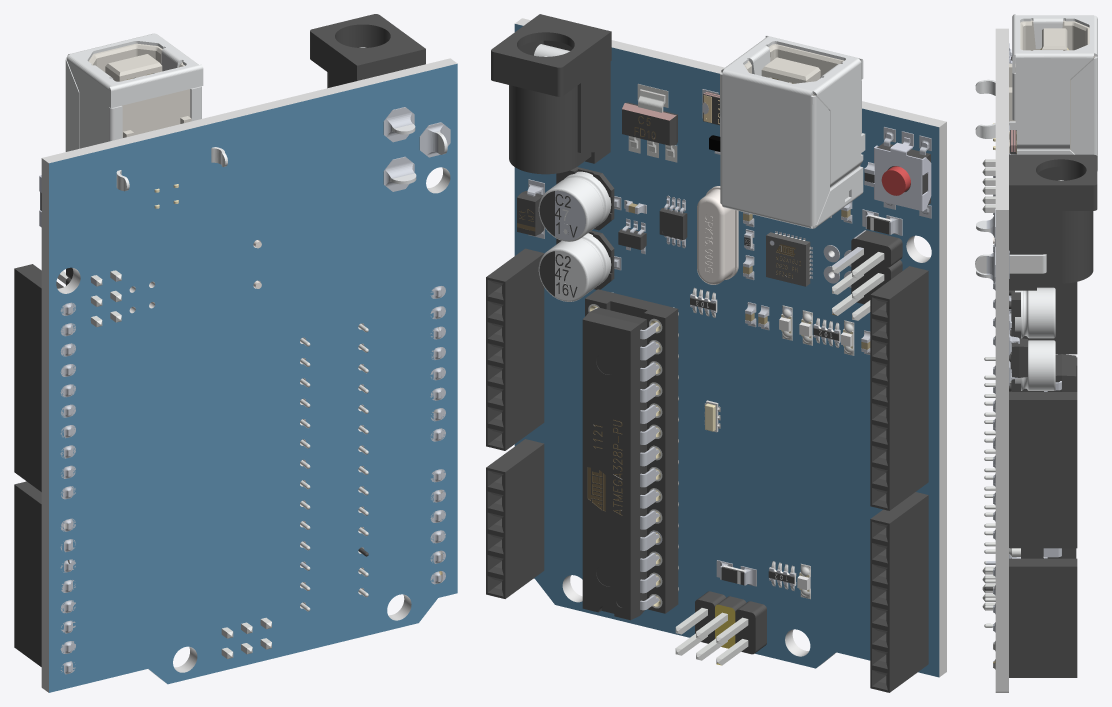
Rendered from Arduino.gltf.
3 views of the same model, side by side, from view 1: azimuth 30°, elevation 25°; view 2: azimuth 150°, elevation 25°; view 3: azimuth 270°, elevation 25° (orthographic). The views are drawn at different scales.
Visible parts, largest first — view 1: Node26, Node2, Node9, Node7, Node10, Node1, Node6, Node4, Node5; view 2: Node26, Node2, Node9, Node7, Node6, Node4, Node1, Node18, Node14, Node5, Node10, Node15 (+3 smaller); view 3: Node2, Node9, Node7, Node6, Node10, Node1, Node4, Node5.
Part boxes in pixels (left/top/right/bottom): Node26: left=49, top=63, right=457, bottom=692; Node2: left=14, top=14, right=425, bottom=666; Node9: left=65, top=33, right=447, bottom=191; Node7: left=41, top=58, right=457, bottom=692; Node10: left=88, top=43, right=191, bottom=137; Node1: left=60, top=107, right=450, bottom=673; Node6: left=57, top=270, right=368, bottom=658; Node4: left=60, top=107, right=445, bottom=673; Node5: left=60, top=112, right=445, bottom=674; Node26: left=514, top=24, right=939, bottom=677; Node2: left=486, top=14, right=930, bottom=692; Node9: left=534, top=35, right=865, bottom=301; Node7: left=515, top=18, right=946, bottom=676; Node6: left=588, top=84, right=884, bottom=665; Node4: left=528, top=89, right=931, bottom=610; Node1: left=527, top=89, right=931, bottom=608; Node18: left=697, top=186, right=738, bottom=284; Node14: left=626, top=137, right=931, bottom=276; Node5: left=527, top=93, right=931, bottom=598; Node10: left=744, top=44, right=844, bottom=95; Node15: left=766, top=232, right=810, bottom=286; Node2: left=984, top=57, right=1097, bottom=677; Node9: left=975, top=14, right=1097, bottom=390; Node7: left=995, top=28, right=1008, bottom=692; Node6: left=975, top=159, right=1042, bottom=627; Node10: left=1009, top=20, right=1094, bottom=154; Node1: left=986, top=43, right=1061, bottom=661; Node4: left=986, top=48, right=1057, bottom=659; Node5: left=986, top=48, right=1061, bottom=626.
Bounding box in the file's own units: 53.34 × 74.93 × 15.25.
